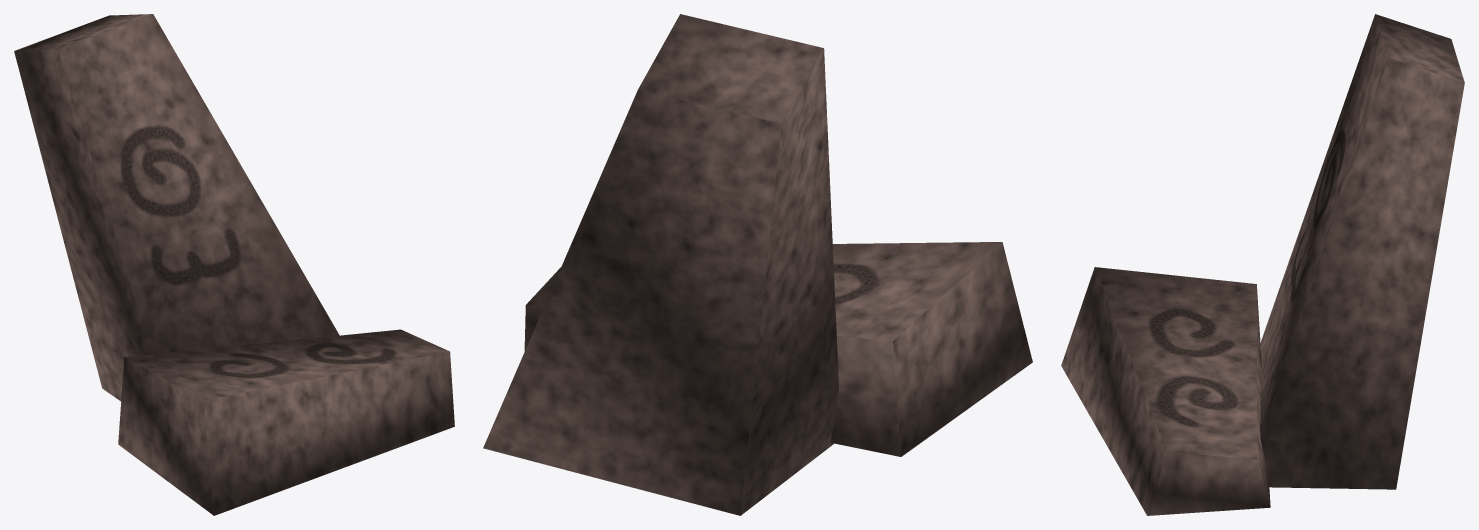
File: tar_henge_03.fbx
The picture shows the model from 3 angles, left to right: view 1: azimuth 30°, elevation 25°; view 2: azimuth 150°, elevation 25°; view 3: azimuth 270°, elevation 25°; orthographic projection. The views are drawn at different scales.
Parts seen in each view (by area): view 1: tar_henge_03; view 2: tar_henge_03; view 3: tar_henge_03.
Boxes of the visible parts, bbox=[...] form: tar_henge_03: bbox=[14, 14, 454, 515]; tar_henge_03: bbox=[483, 14, 1032, 515]; tar_henge_03: bbox=[1061, 14, 1464, 515].
Bounding box in the file's own units: 140 × 167 × 166.
1 material, 1 textured.
